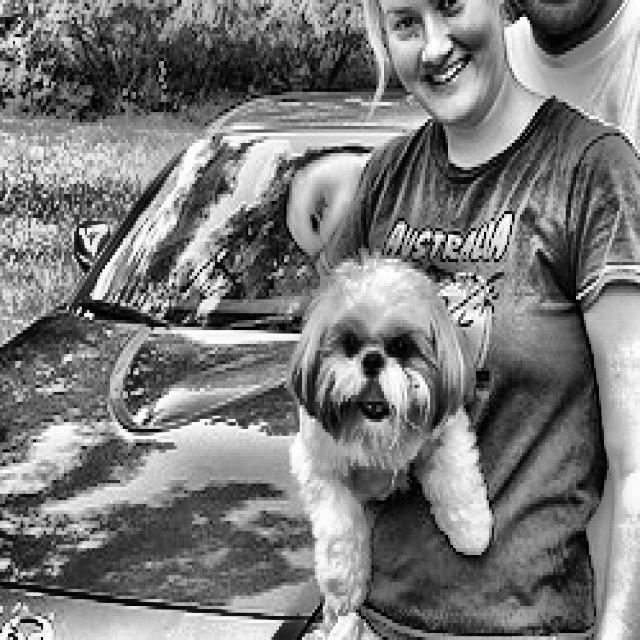light_vehicle: (0, 92, 430, 640)
